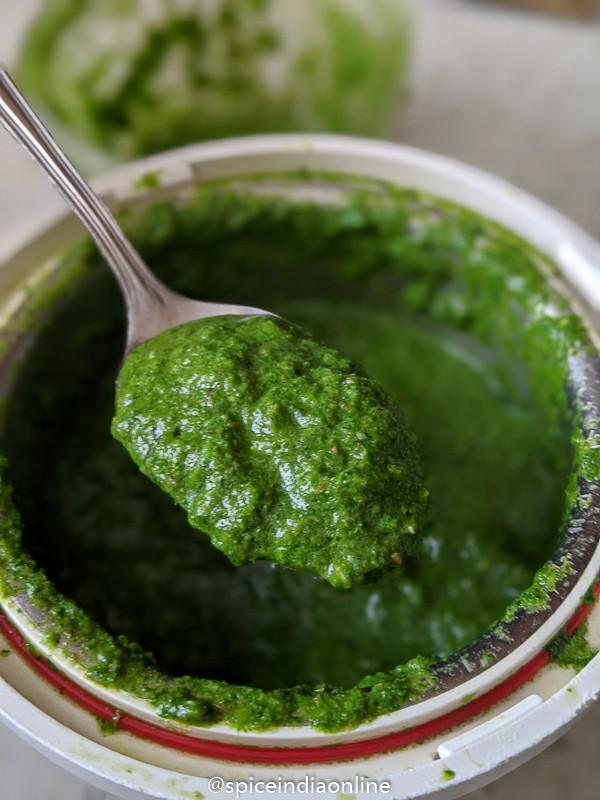GreenChutney: (3, 285, 568, 728), (115, 312, 425, 585)
